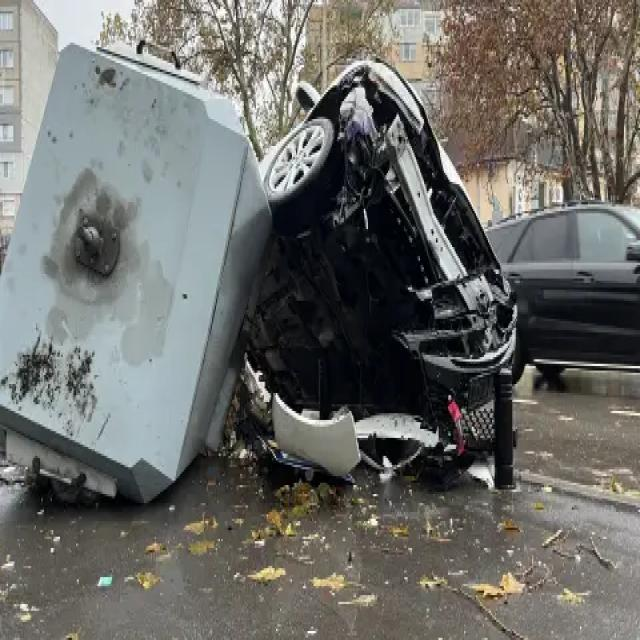Accident: (0, 31, 521, 500)
